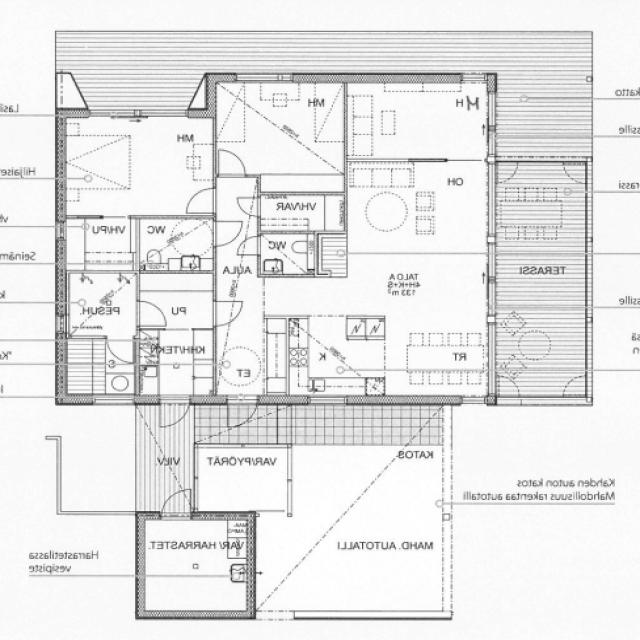door: (54, 66, 91, 114), (181, 184, 219, 217), (159, 488, 193, 522), (227, 398, 260, 433), (213, 146, 249, 178), (133, 298, 169, 330), (207, 297, 245, 327), (104, 336, 138, 366), (210, 218, 242, 248), (158, 398, 190, 428), (494, 372, 522, 402), (560, 160, 588, 187), (559, 374, 587, 401), (234, 194, 262, 218), (494, 160, 519, 186), (235, 234, 262, 258)
window: (86, 107, 139, 122), (138, 107, 188, 121), (235, 73, 288, 85), (308, 393, 350, 408), (89, 395, 135, 408), (484, 90, 498, 130), (483, 248, 498, 284), (483, 274, 497, 312), (457, 394, 488, 408)
zone: (347, 85, 491, 312), (268, 311, 490, 398), (64, 116, 214, 216), (213, 80, 346, 176), (143, 519, 251, 615), (136, 325, 217, 398), (64, 270, 138, 340), (136, 274, 218, 334), (134, 217, 214, 272), (60, 216, 137, 272), (258, 232, 346, 277), (255, 191, 345, 234), (589, 307, 640, 371), (589, 252, 640, 308)
